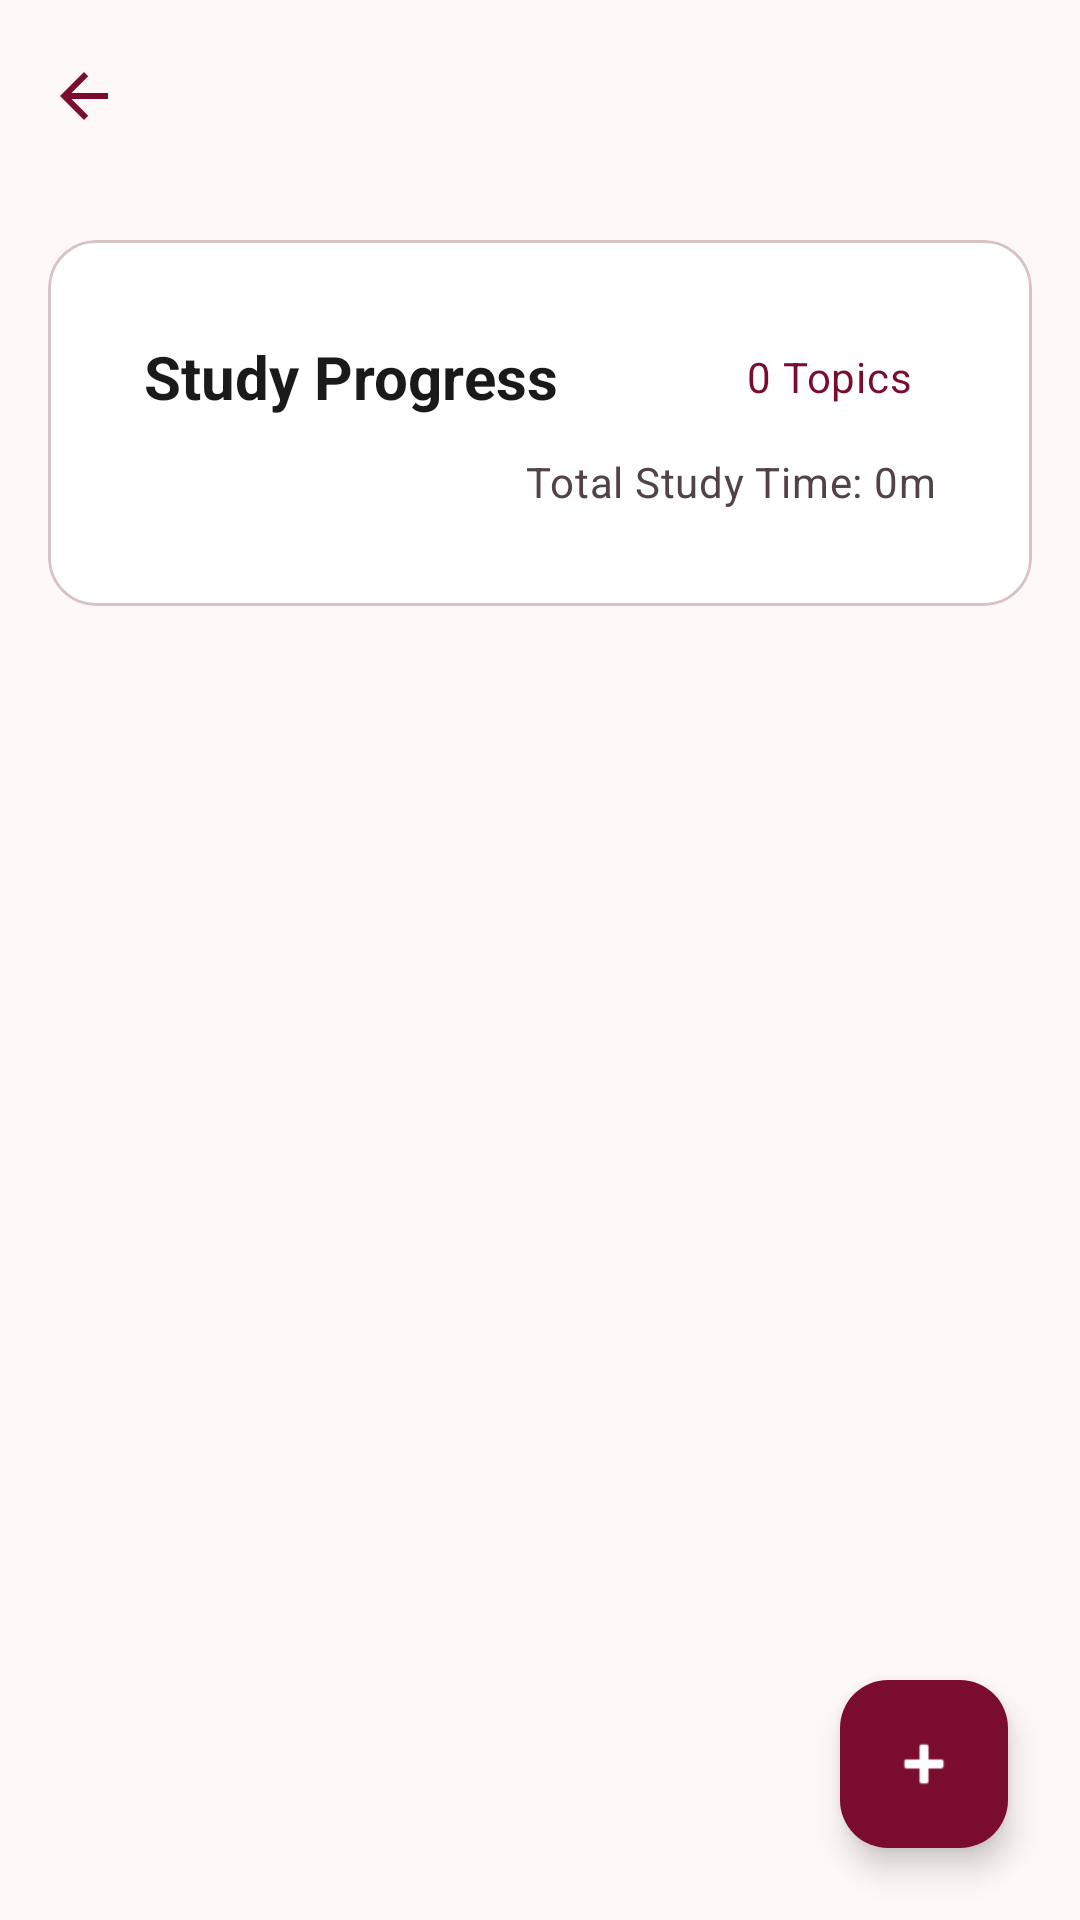

Named icons in this screenshot (1080px x 1920px) and their centers, [x,y]:
Add Topic: [924,1764]
